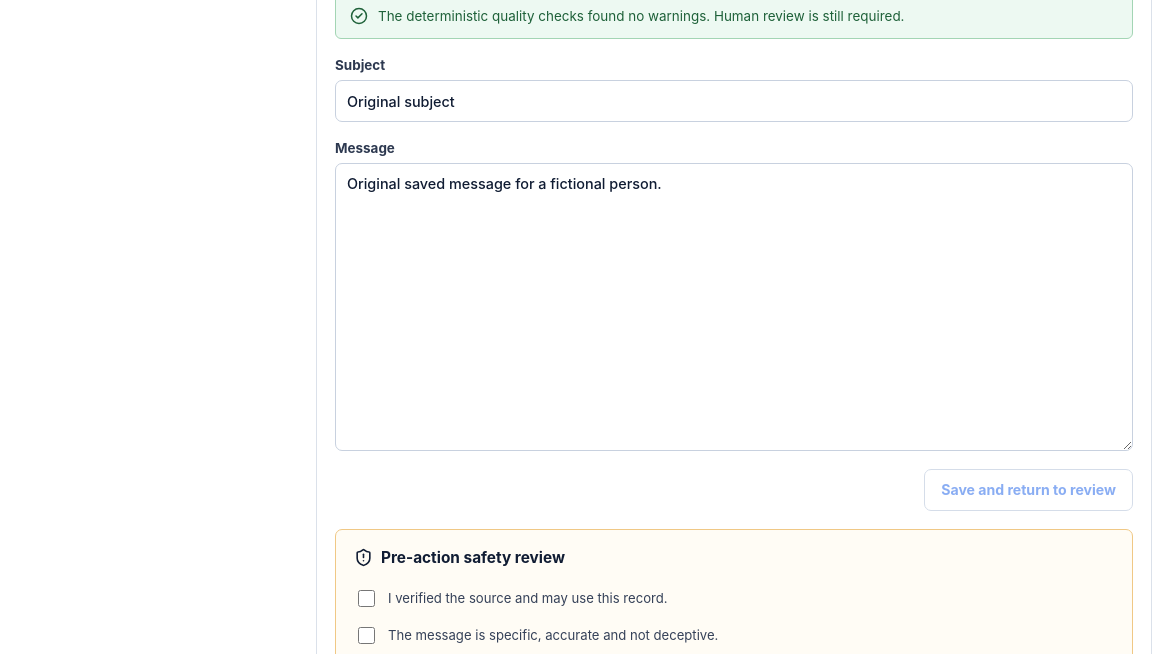
Test: version-bound personal draft saving › rejects mismatched save responses without clearing the editor
(page scrolled)
Replace the text in the text box labelled "Message" with "My unsaved personalized message stays in this editor.": (734, 307) [335,163,1133,451]
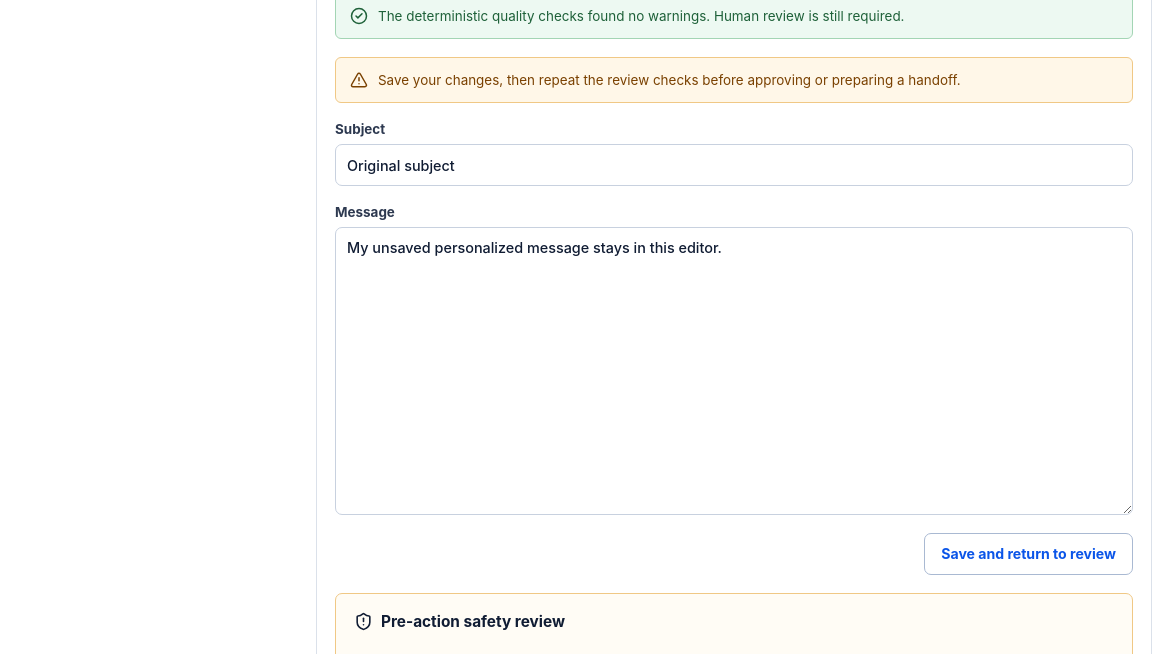
Click the button "Save and return to review": click(1029, 554) [924,533,1133,575]
(page scrolled)
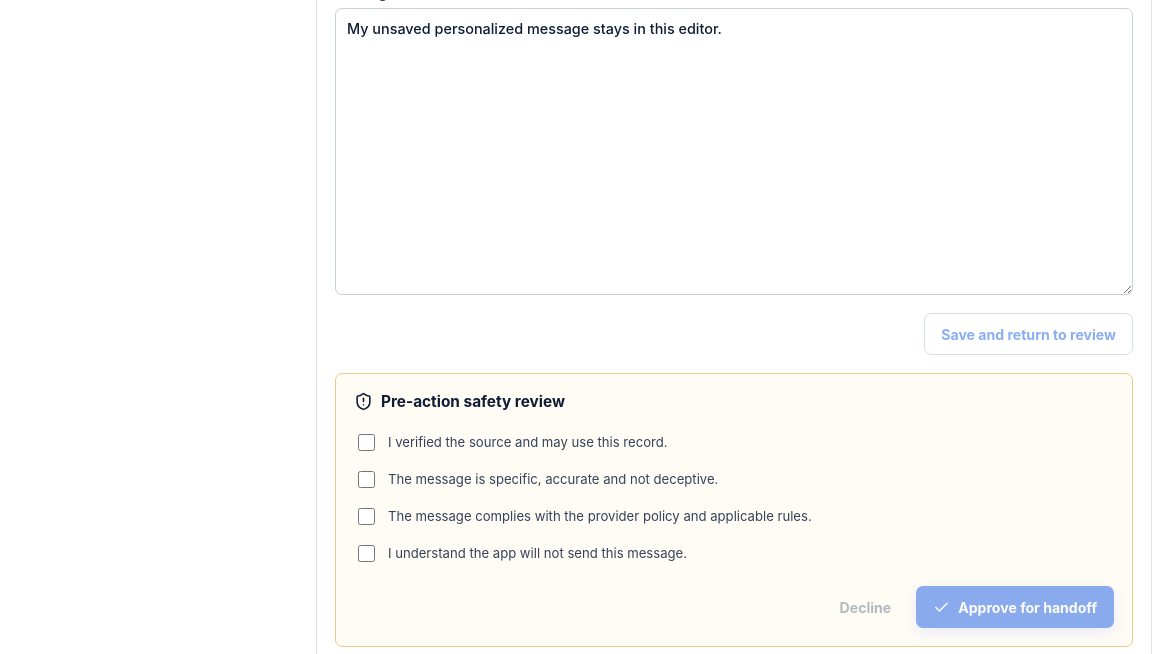
expect the button "Save and return to review" is disabled: met, box [924,313,1133,355]
